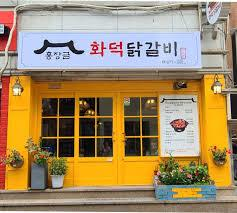galbi: (144, 39, 179, 58)
